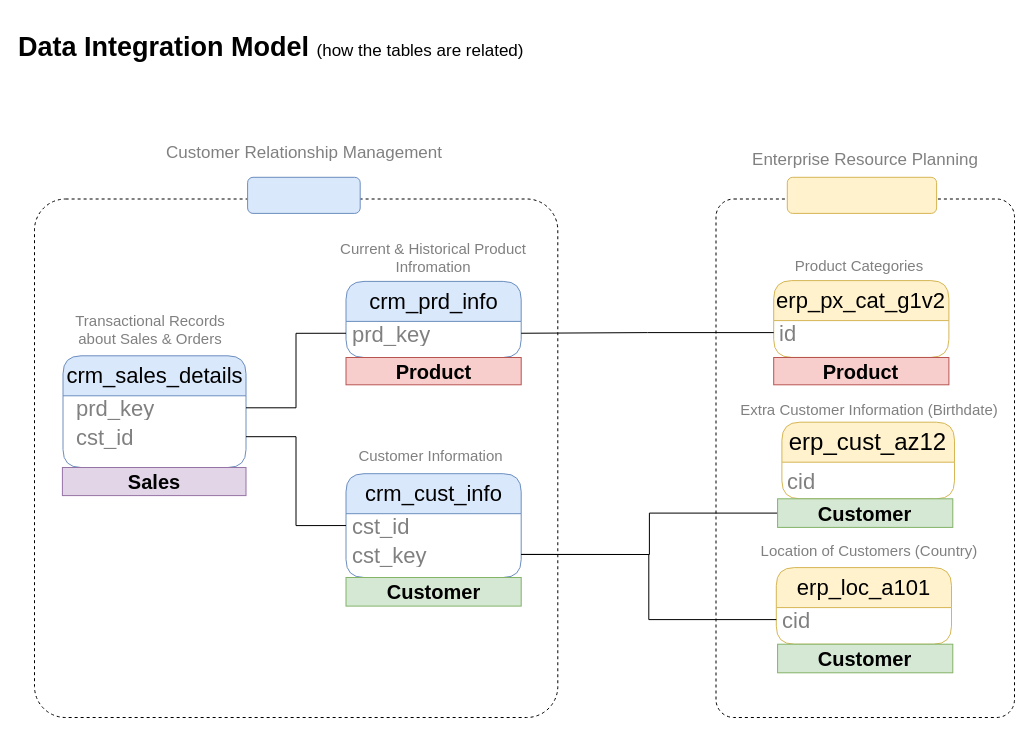
Image size: 1033x735. Some labels were removed from this diagram. The shapes that lost their labels are listed below. From the top down, each one's centre as x and y in pixels, then its label:
the point at 303,194: CRM
the point at 861,194: ERP
